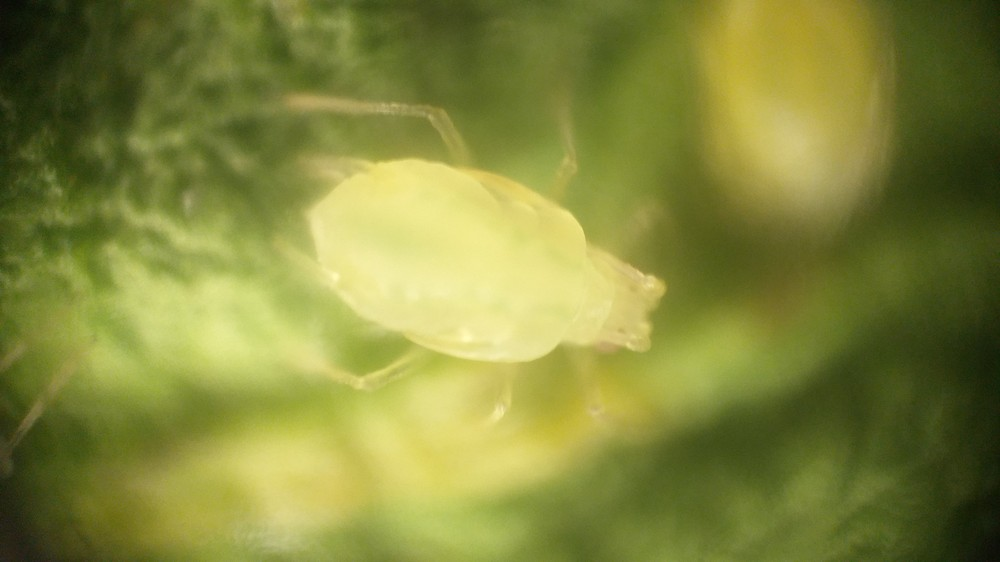Pulgon: (242, 77, 730, 481)
